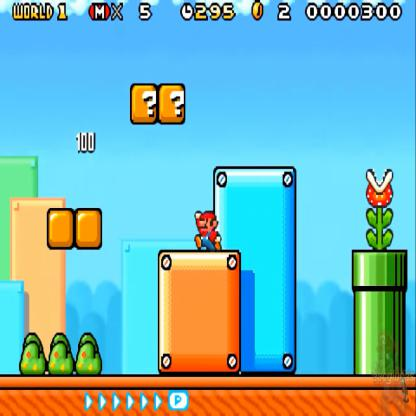Mario: (190, 207, 224, 253), (251, 0, 265, 25)
planta carnivora: (363, 164, 399, 250)
